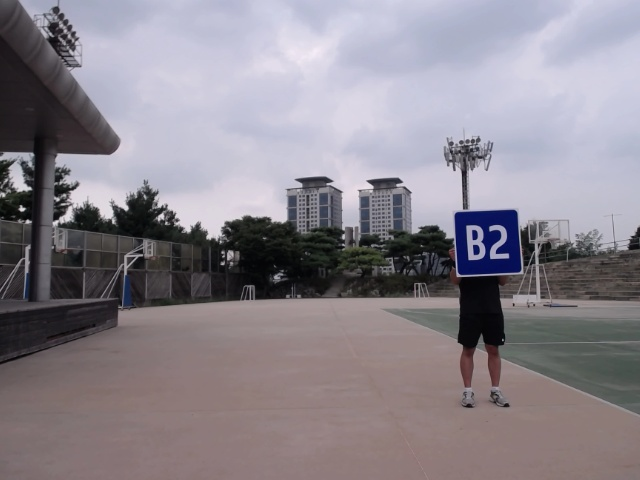delivery_b2: (454, 210, 524, 277)
